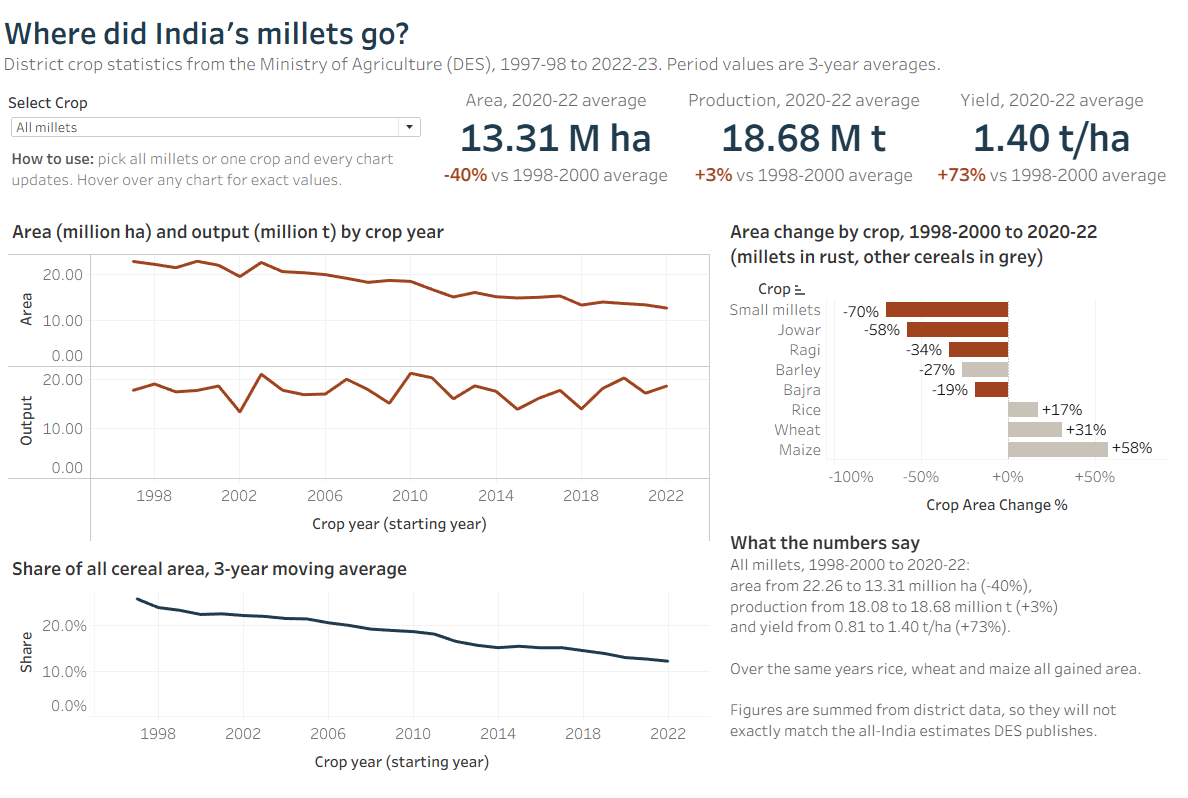

Layout of this report page (visuals, bound fields, positions):
{"tool":"tableau","page":{"name":"Overview","canvas":[1200,800],"ordinal":0},"visuals":[{"type":"text","box":[0,0,1200,76]},{"type":"parameter","param":"[Parameters].[Select Crop]","box":[0,76,228,56]},{"type":"worksheet","title":"KPI Area","mark":"Text","box":[228,76,324,140]},{"type":"worksheet","title":"KPI Production","mark":"Text","box":[552,76,324,140]},{"type":"worksheet","title":"KPI Yield","mark":"Text","box":[876,76,324,140]},{"type":"text","box":[0,132,228,84]},{"type":"worksheet","title":"Area and Production Trend","mark":"Line","rows":["Sel Area","Sel Prod"],"cols":["year"],"box":[0,216,720,344]},{"type":"worksheet","title":"Area Change by Crop","mark":"Bar","rows":["crop"],"cols":["Crop Change %"],"box":[720,216,480,344]},{"type":"worksheet","title":"Share of Cereal Area","mark":"Line","rows":["Share 3yr Avg"],"cols":["year"],"box":[0,560,720,240]},{"type":"worksheet","title":"Notes","mark":"Text","box":[720,560,480,240]}]}

Visuals, with their boxes in screenshot pixels (x1, y1, x2, y2), scaled from the page's 1200x800 canvas onto the 1188x798 screenshot:
text: [left=0, top=0, right=1187, bottom=76]
parameter: [left=0, top=76, right=226, bottom=132]
"KPI Area" worksheet (Text marks): [left=226, top=76, right=546, bottom=215]
"KPI Production" worksheet (Text marks): [left=546, top=76, right=867, bottom=215]
"KPI Yield" worksheet (Text marks): [left=867, top=76, right=1187, bottom=215]
text: [left=0, top=132, right=226, bottom=215]
"Area and Production Trend" worksheet (Line marks): [left=0, top=215, right=713, bottom=559]
"Area Change by Crop" worksheet (Bar marks): [left=713, top=215, right=1187, bottom=559]
"Share of Cereal Area" worksheet (Line marks): [left=0, top=559, right=713, bottom=797]
"Notes" worksheet (Text marks): [left=713, top=559, right=1187, bottom=797]
